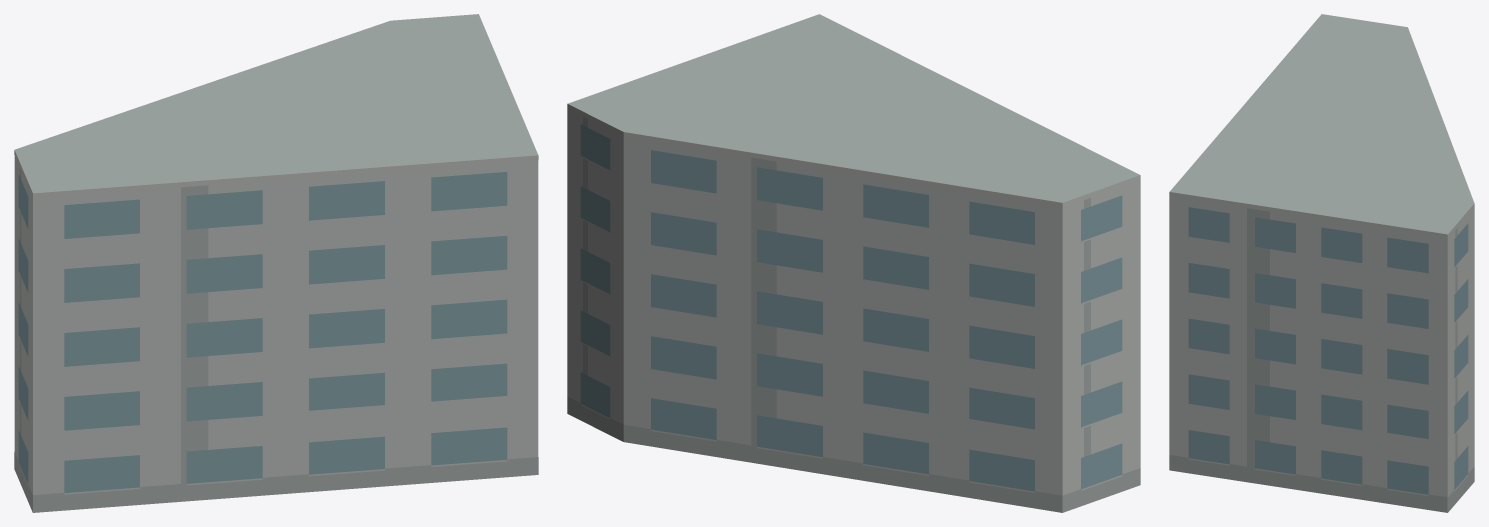
Rendered from residential-66100e8d-c535-4008-985f-1d0ab8c6bc18.glb.
3 views of the same model, side by side, from view 1: azimuth 30°, elevation 25°; view 2: azimuth 150°, elevation 25°; view 3: azimuth 270°, elevation 25° (orthographic). The views are drawn at different scales.
Visible parts, largest first — view 1: residential-66100e8d-c535-4008-985f-1d0ab8c6bc18.tmp; view 2: residential-66100e8d-c535-4008-985f-1d0ab8c6bc18.tmp; view 3: residential-66100e8d-c535-4008-985f-1d0ab8c6bc18.tmp.
Part boxes in pixels (x1,y1,x2,y2): residential-66100e8d-c535-4008-985f-1d0ab8c6bc18.tmp: [14, 14, 538, 512]; residential-66100e8d-c535-4008-985f-1d0ab8c6bc18.tmp: [567, 14, 1140, 512]; residential-66100e8d-c535-4008-985f-1d0ab8c6bc18.tmp: [1169, 14, 1474, 512].
Bounding box in the file's own units: 25.89 × 15.25 × 15.15.
